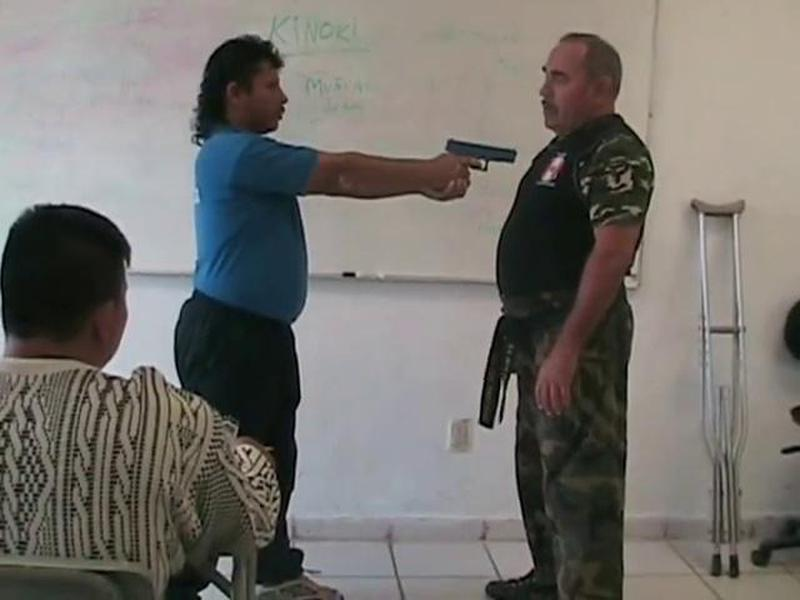Pistola: (434, 131, 528, 205)
